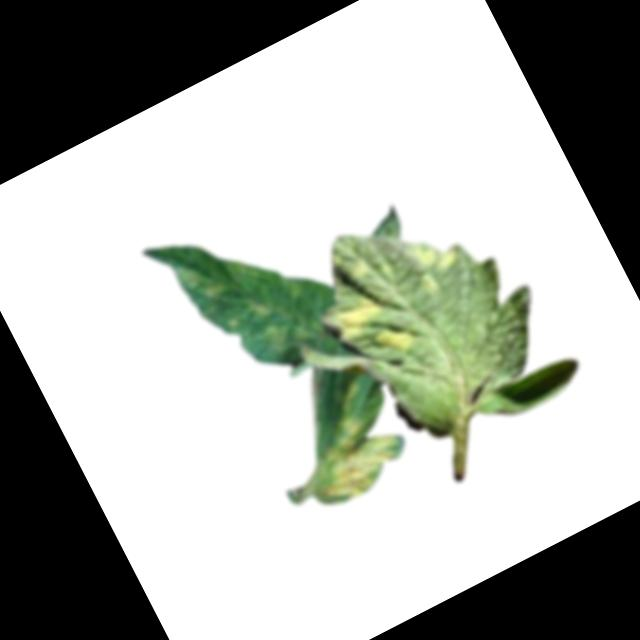Leaf_Mold: (288, 376, 411, 509), (402, 227, 468, 297), (226, 290, 289, 358), (172, 249, 233, 310), (323, 288, 386, 342), (371, 313, 422, 364)
